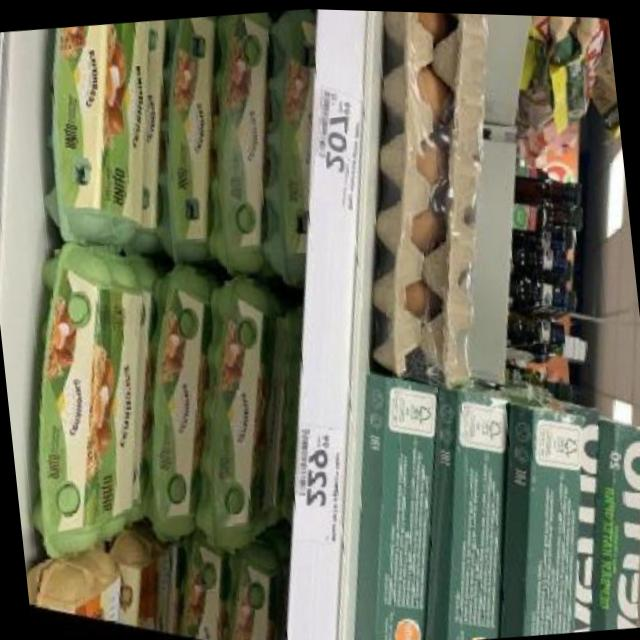Egg: (0, 226, 178, 580), (165, 256, 316, 573), (14, 15, 188, 271), (108, 244, 244, 558), (175, 7, 303, 288), (124, 11, 254, 276), (228, 5, 342, 294), (21, 527, 129, 633), (95, 516, 183, 640), (210, 525, 298, 640), (498, 292, 606, 385), (163, 529, 235, 640), (503, 181, 587, 249), (498, 223, 580, 291), (501, 260, 584, 324), (510, 150, 590, 214)
